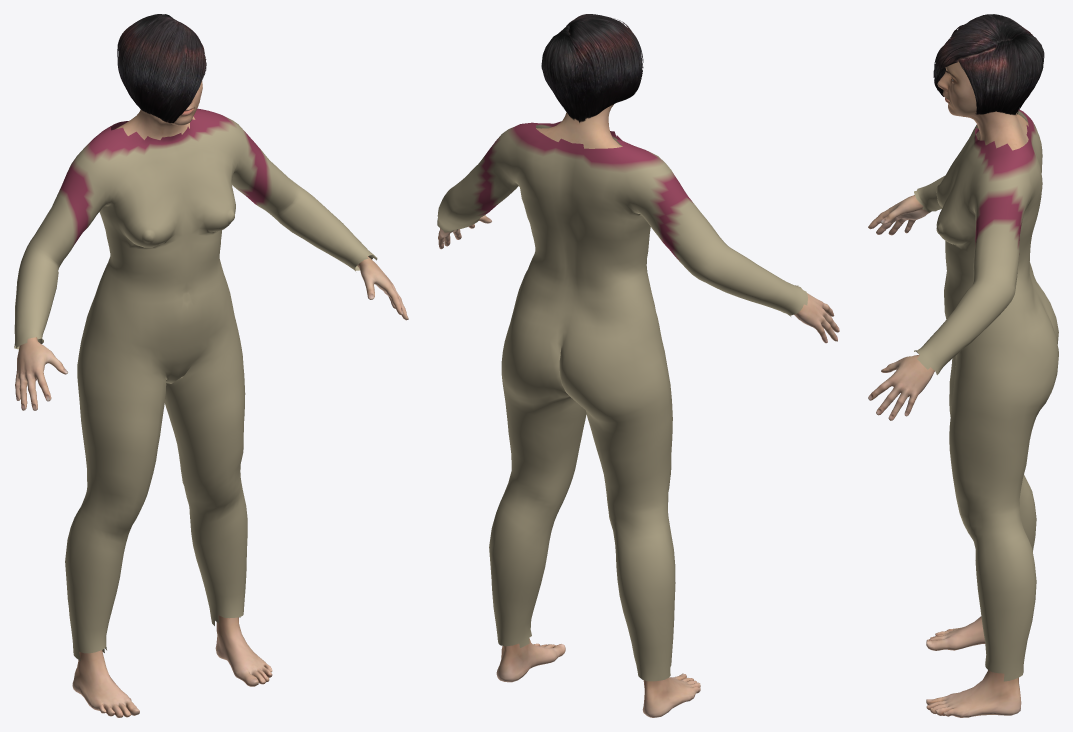
File: crew_CASTOR.glb
3 renders of one model, left to right at view 1: azimuth 30°, elevation 25°; view 2: azimuth 150°, elevation 25°; view 3: azimuth 270°, elevation 25°, orthographic. The views are drawn at different scales.
Visible parts, largest first — view 1: CASTOR_uniform, CASTOR_skin, CASTOR_bob01; view 2: CASTOR_uniform, CASTOR_bob01, CASTOR_skin; view 3: CASTOR_uniform, CASTOR_skin, CASTOR_bob01.
Boxes of the visible parts, x1,y1,x2,y2 form: CASTOR_uniform: [14, 108, 377, 660]; CASTOR_skin: [15, 81, 408, 717]; CASTOR_bob01: [117, 14, 206, 123]; CASTOR_uniform: [437, 121, 807, 681]; CASTOR_bob01: [541, 14, 643, 122]; CASTOR_skin: [438, 104, 839, 717]; CASTOR_uniform: [914, 109, 1058, 681]; CASTOR_skin: [868, 48, 1028, 717]; CASTOR_bob01: [933, 14, 1044, 115].
Bounding box in the file's own units: 0.9854 × 1.62 × 0.4255.
Materials: 13 (12 with a texture image).
